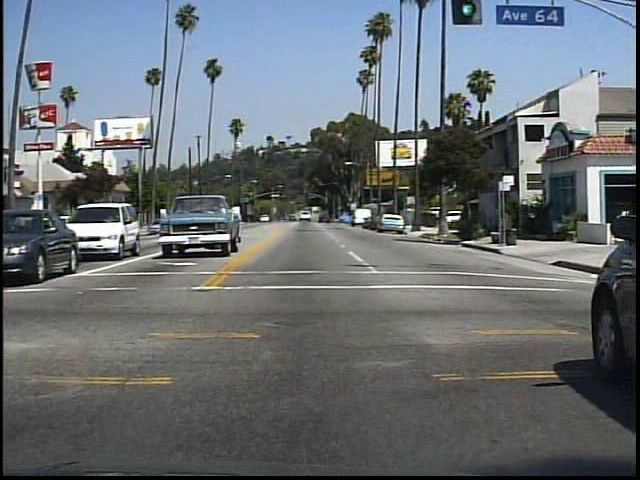person: (471, 199, 494, 244)
